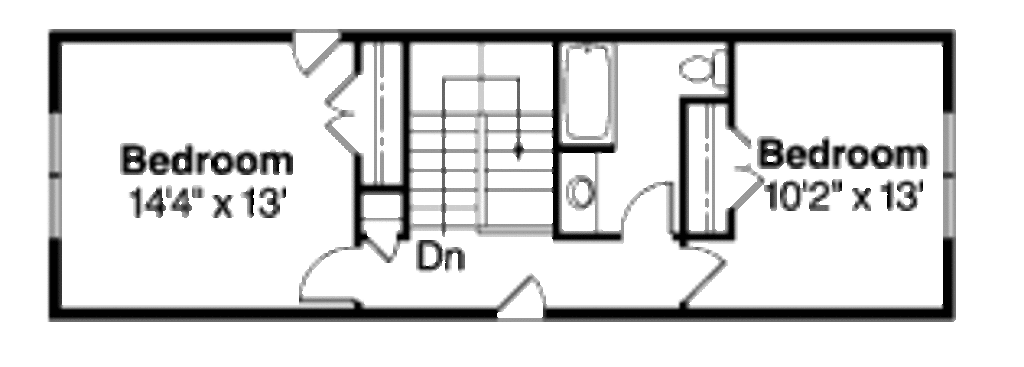door: (610, 172, 675, 239), (675, 236, 727, 312), (320, 71, 361, 155), (296, 245, 355, 303), (279, 27, 341, 79), (491, 269, 547, 322), (355, 222, 405, 269)
large_sink: (677, 40, 729, 90)
small_sink: (559, 152, 600, 235)
stairs: (408, 37, 555, 239)
tub: (556, 43, 621, 152)
window: (43, 113, 66, 236), (939, 113, 957, 235)
